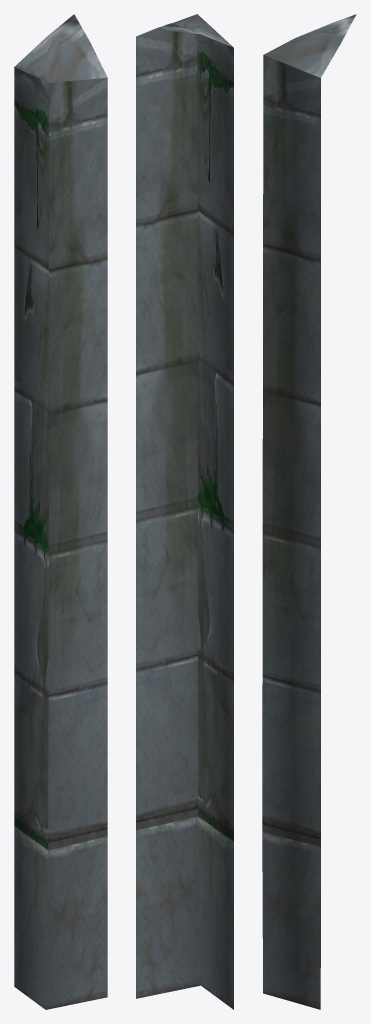
Rendered from stemple_wall_convex_03.fbx.
3 views of the same model, side by side, from view 1: azimuth 30°, elevation 25°; view 2: azimuth 210°, elevation 25°; view 3: azimuth 330°, elevation 25° (orthographic). The views are drawn at different scales.
Parts seen in each view (by area): view 1: stemple_wall_convex_03-0; view 2: stemple_wall_convex_03-0; view 3: stemple_wall_convex_03-0.
Boxes of the visible parts, <box> form: stemple_wall_convex_03-0: <box>14,14,107,1009</box>; stemple_wall_convex_03-0: <box>136,14,233,1009</box>; stemple_wall_convex_03-0: <box>262,14,356,1009</box>.
Size of the model in its own units: 0.4235 by 6.37 by 0.4223.
